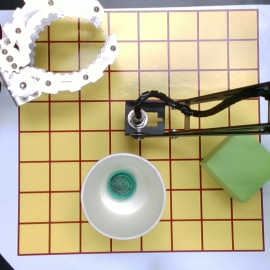cup_green: (80, 153, 167, 241)
